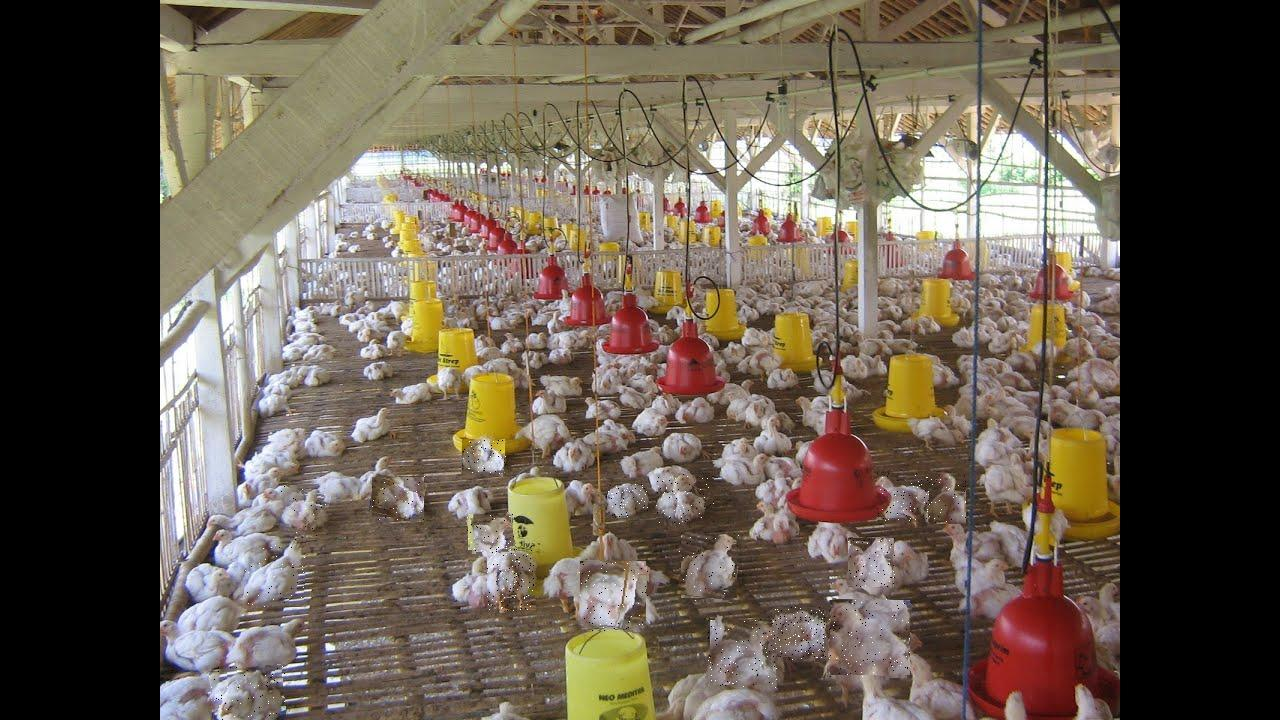chicken: (829, 600, 911, 678), (709, 619, 780, 689), (580, 561, 649, 632), (244, 533, 306, 607), (209, 666, 285, 720), (679, 534, 739, 602), (488, 547, 535, 612), (770, 608, 826, 661), (656, 474, 714, 525), (877, 474, 933, 522), (280, 486, 329, 538), (370, 477, 426, 521), (848, 538, 895, 588), (929, 471, 966, 524), (467, 514, 515, 554), (462, 439, 506, 476), (608, 485, 649, 518)
